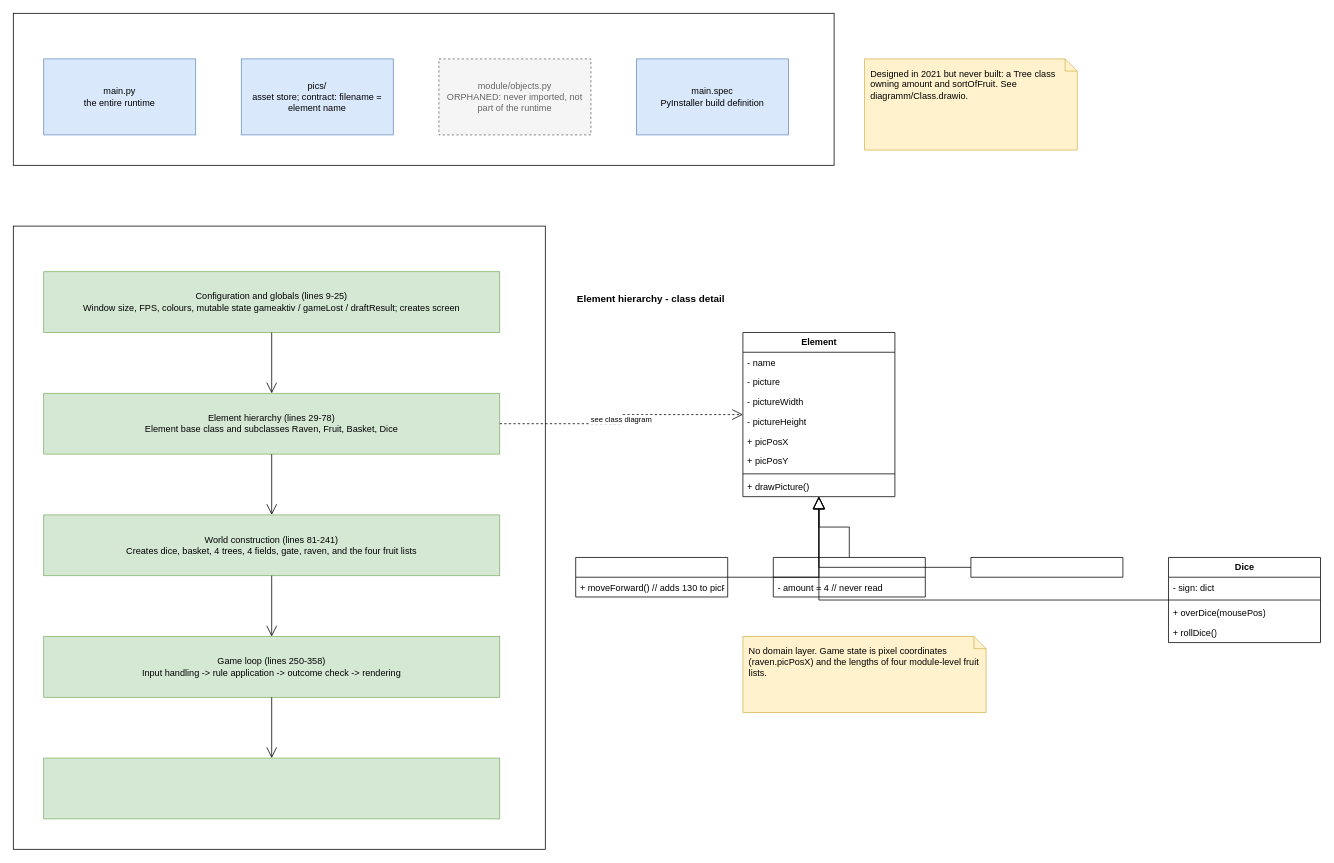
The diagram is 1334 pixels wide and 863 high, and some of its shapes have lost their labels. The shapes that lost their labels are listed below. From the top down, each one's box as (x1, y1, x2, y2) in pixels, then its label:
(13, 13, 834, 165): Fruit Garden
(13, 225, 545, 849): main.py (whitebox)
(575, 557, 728, 597): Raven
(773, 557, 925, 597): Fruit
(970, 557, 1123, 577): Basket (no behaviour)
(43, 757, 500, 819): End sequence (lines 360-395) Win/lose screen, second loop
